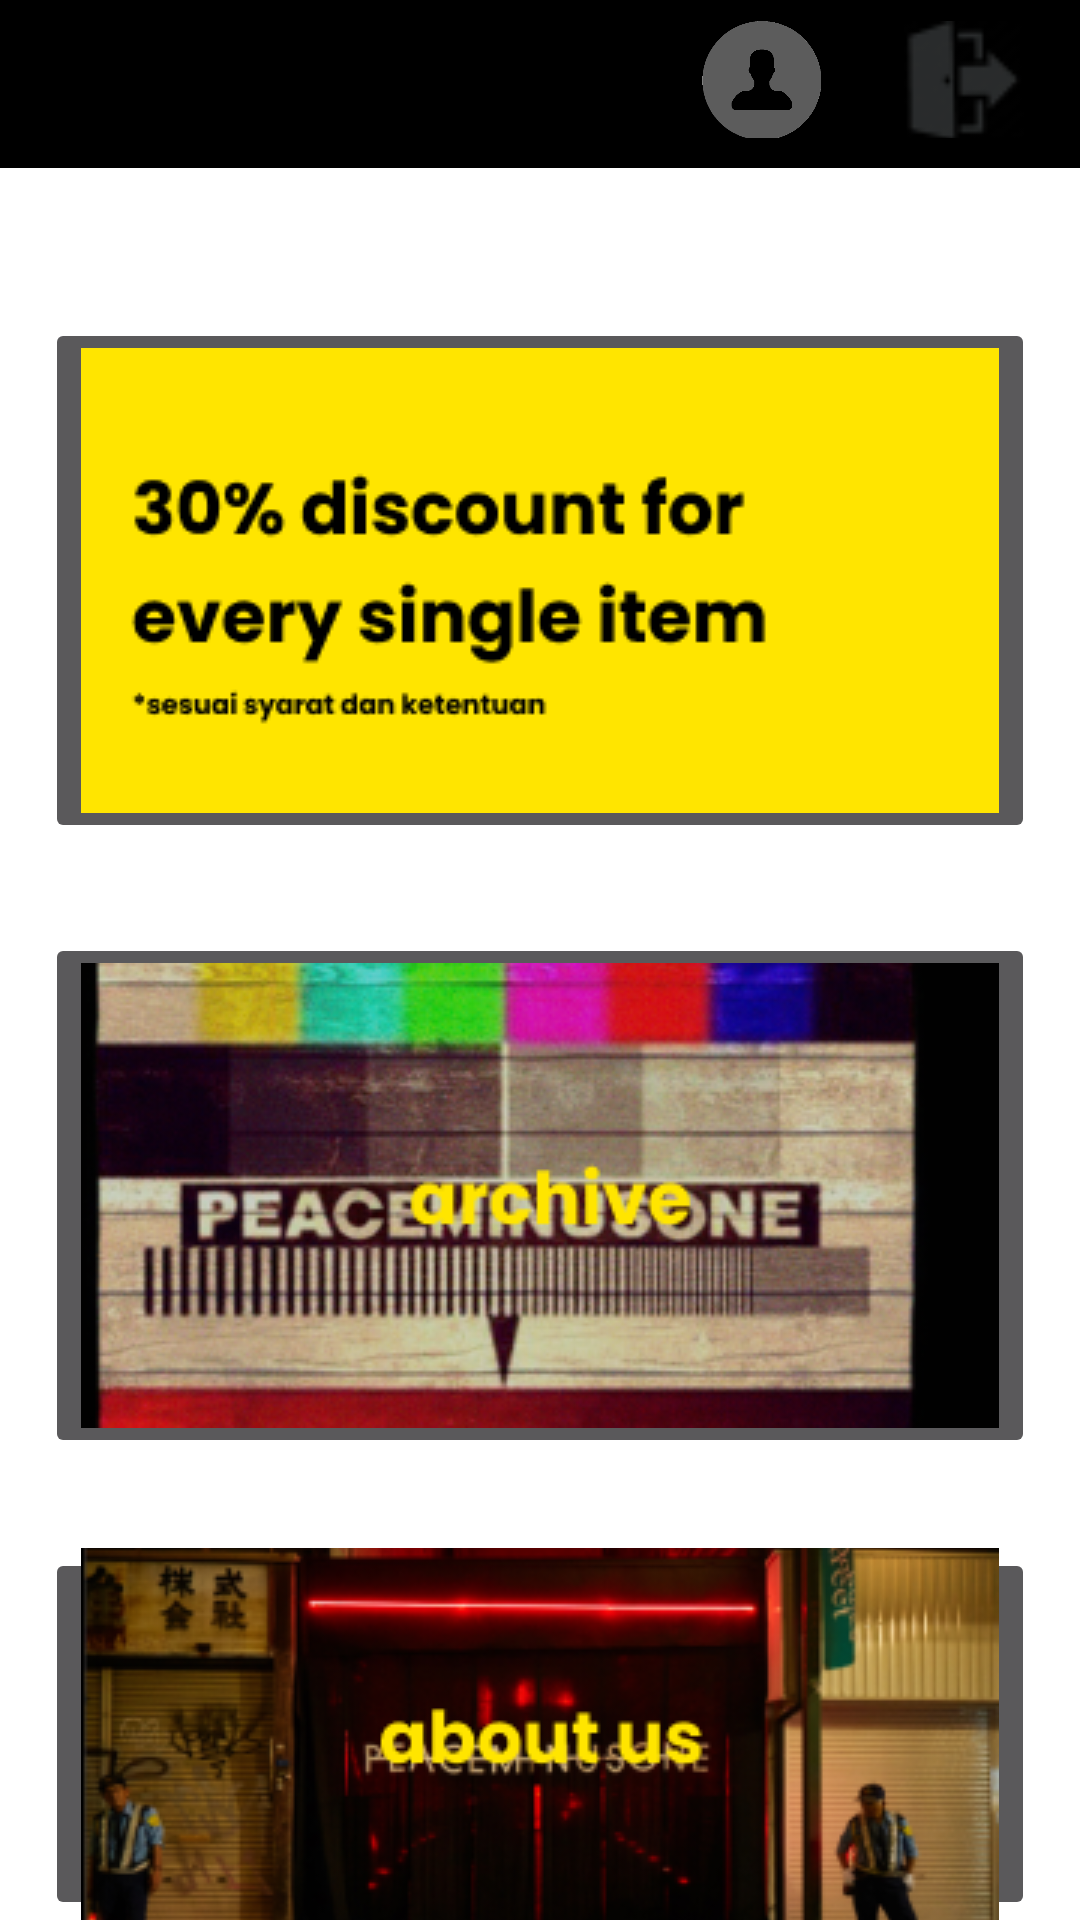

Icon bounding boxes for this 1080 x 1920 phone screenshot, format bbox=[x1, y1, x2, y2]:
pintucenah: bbox=[910, 23, 1016, 138]
user: bbox=[702, 21, 821, 138]
